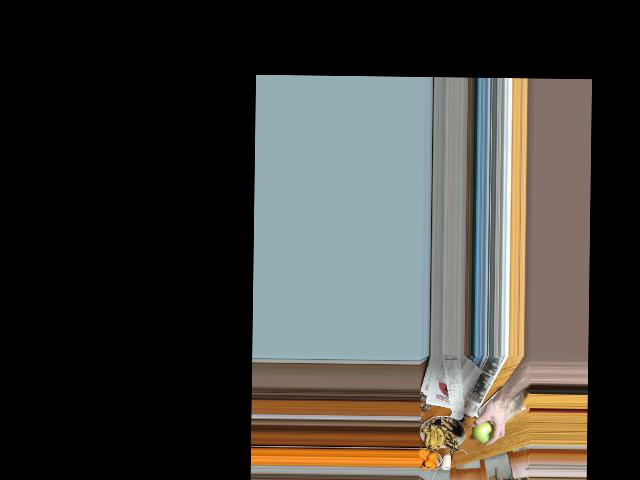apple: (473, 419, 494, 444)
